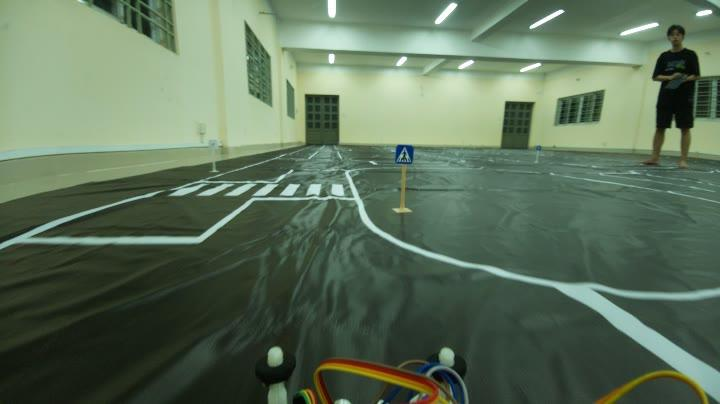crosswalk: (391, 140, 422, 166)
